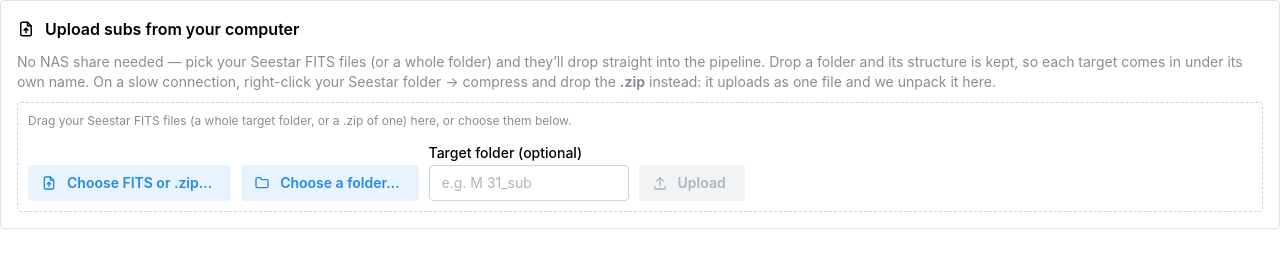
Scenario: the destination box knows which targets you already have › says nothing at all when the backend has no destinations to give
This screenshot has width=1280, height=273.
Type "M 31" into the field with test id "upload-target-folder".
click(528, 183); type("M 31")  # box [428,165,628,201]
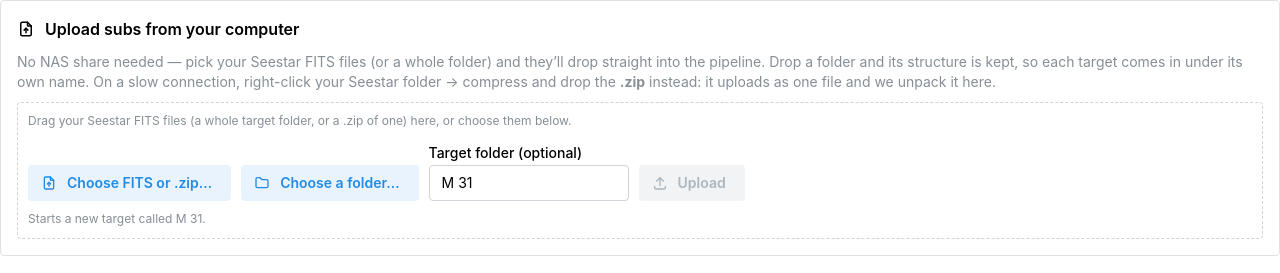
Now the element with test id "upload-destination-advice" shows "Starts a new target", box [28,211,206,226]
